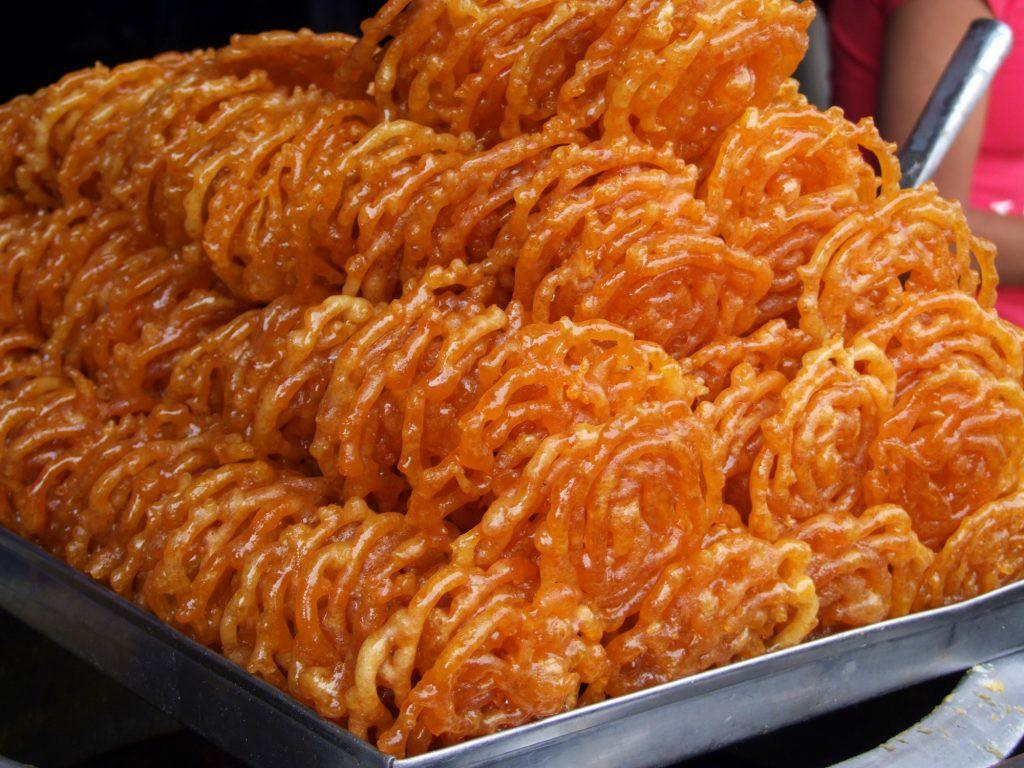Jalebi: (0, 0, 1024, 744)
